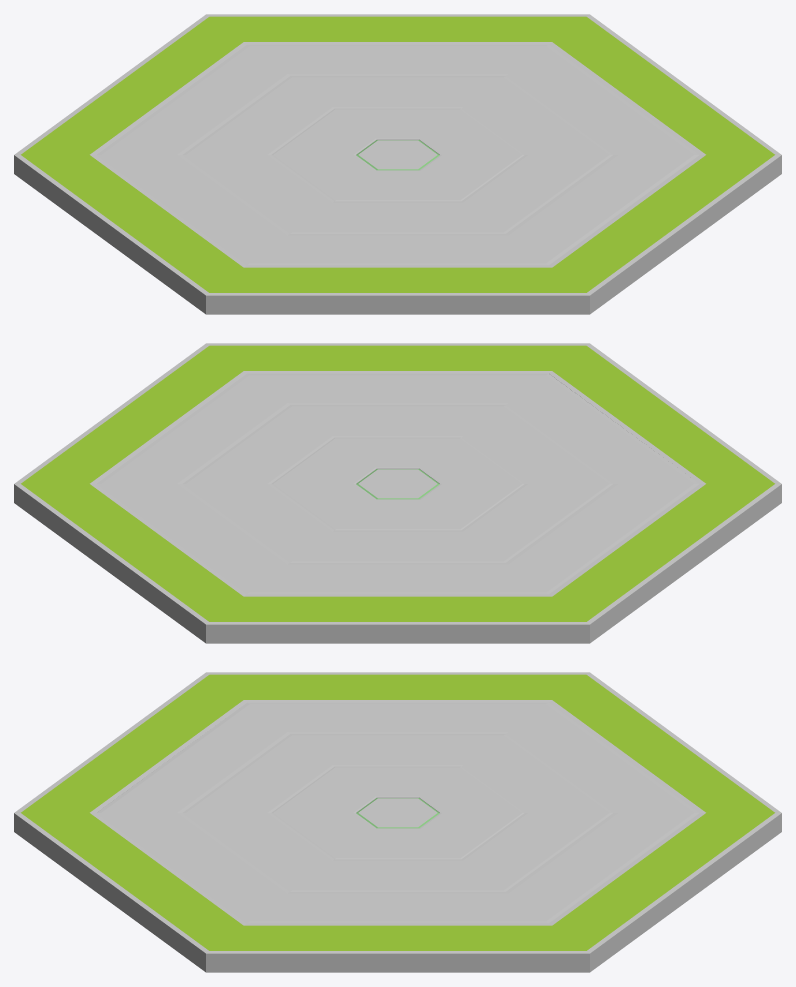
Rendered from DiscoLevel01.fbx.
3 renders of one model, top to bottom at view 1: azimuth 30°, elevation 25°; view 2: azimuth 150°, elevation 25°; view 3: azimuth 270°, elevation 25°, orthographic.
Visible parts, largest first — view 1: Cylinder.008, Cylinder.007, Cylinder.006, Cylinder.005, Cylinder; view 2: Cylinder.008, Cylinder.007, Cylinder.006, Cylinder.005, Cylinder; view 3: Cylinder.008, Cylinder.007, Cylinder.006, Cylinder.005, Cylinder.
Part boxes in pixels (x1,y1,x2,y2): Cylinder.008: (14, 14, 781, 314); Cylinder.007: (97, 44, 698, 265); Cylinder.006: (183, 76, 612, 233); Cylinder.005: (271, 108, 524, 201); Cylinder: (356, 140, 439, 170); Cylinder.008: (14, 343, 781, 643); Cylinder.007: (97, 373, 698, 594); Cylinder.006: (183, 405, 612, 562); Cylinder.005: (271, 437, 524, 530); Cylinder: (356, 469, 439, 499); Cylinder.008: (14, 672, 781, 972); Cylinder.007: (97, 702, 698, 923); Cylinder.006: (183, 734, 612, 891); Cylinder.005: (271, 766, 524, 859); Cylinder: (356, 798, 439, 828).
Size of the model in its own units: 15.74 by 0.5 by 18.17.
